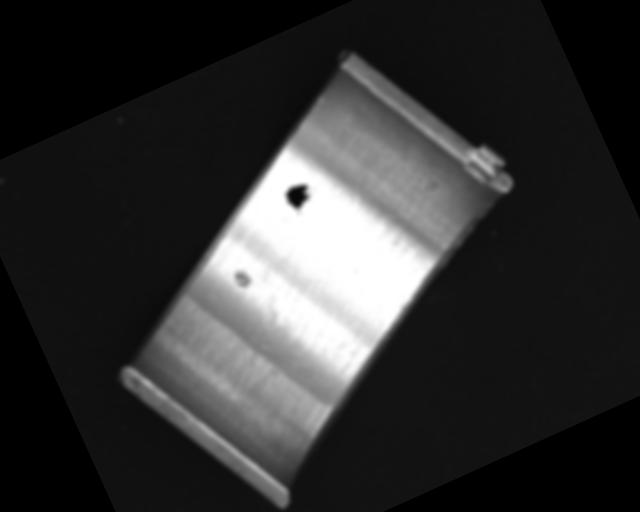blot: (281, 176, 324, 217)
bruise: (229, 264, 256, 292)
nick: (316, 92, 331, 109)
